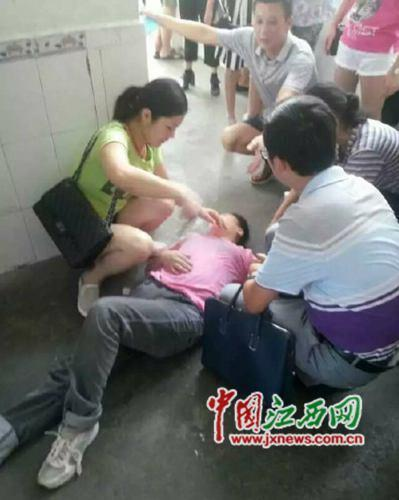fall: (1, 179, 268, 494)
